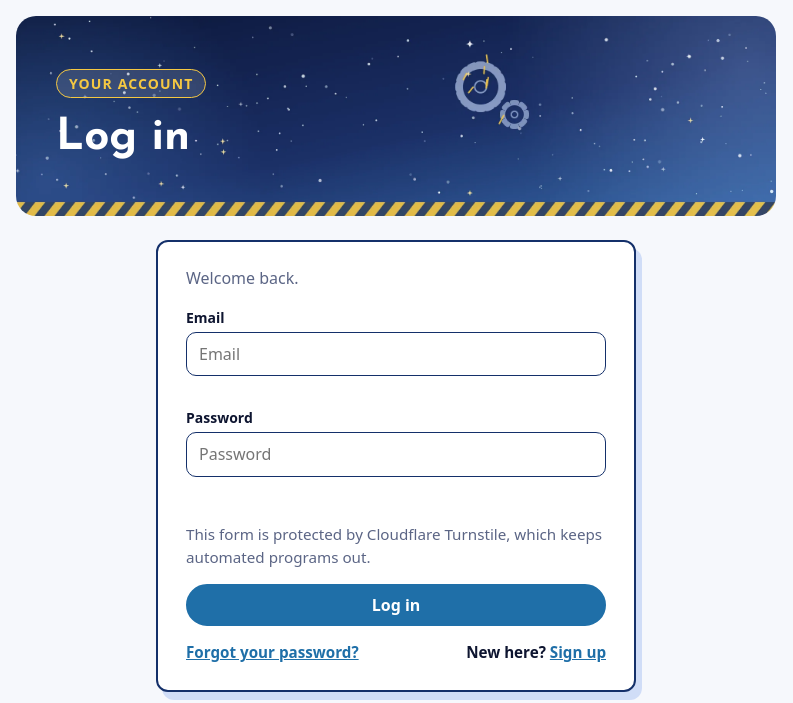
Test case: Log in: with the check switched on › does NOT send anything before the check has finished, says why, and keeps what was typed
The image size is (793, 703).
Type "gill@example.com" into the field labelled "Email" at (396, 354), box [186,332,606,376]
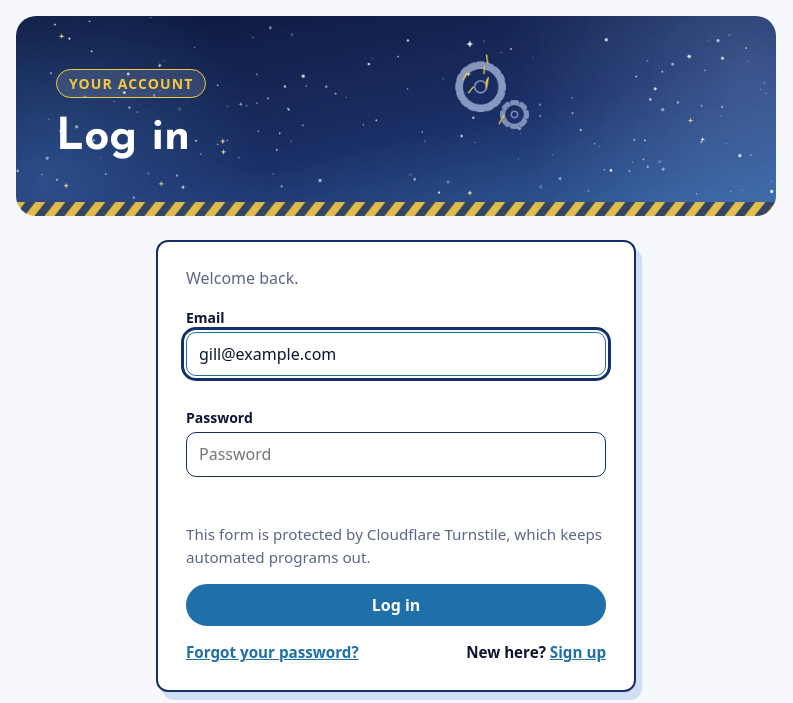
Type "secret123" into the password field labelled "Password" at (396, 454), box [186,432,606,477]
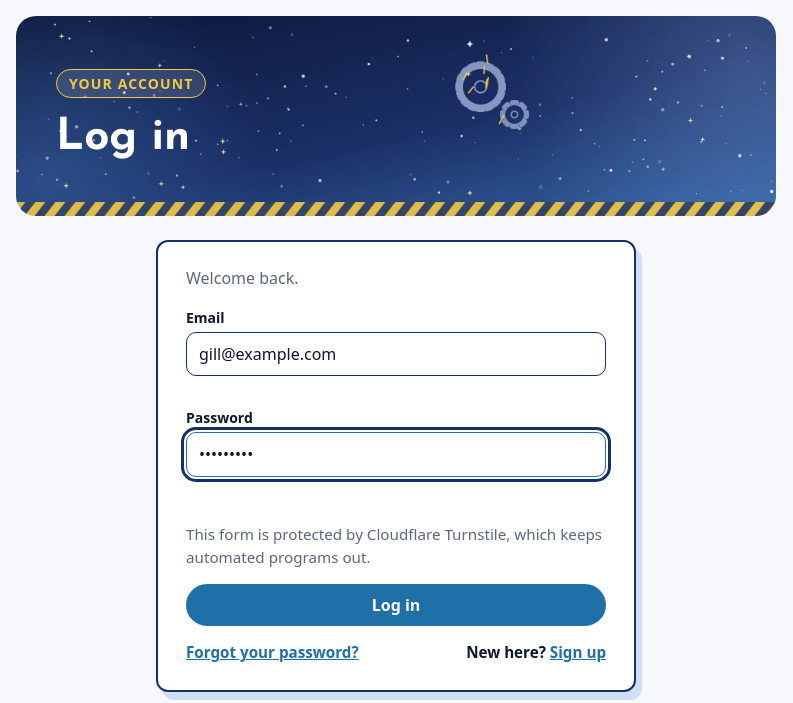
Click the button "Log in" at (396, 605), box [186,584,606,626]
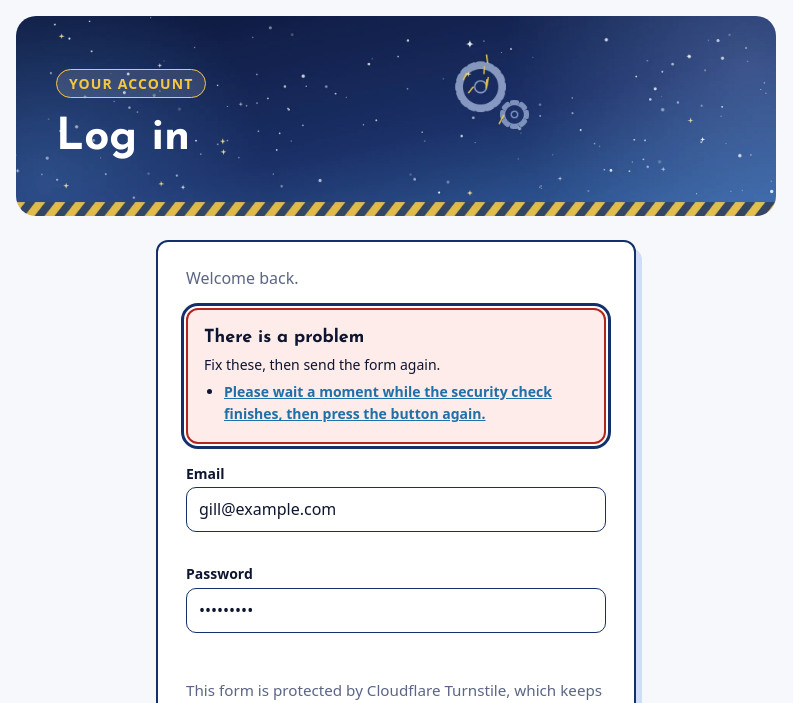
expect the message shows "Please wait a moment while the security check finishes, then press the button again.": met, box [224,382,552,423]
